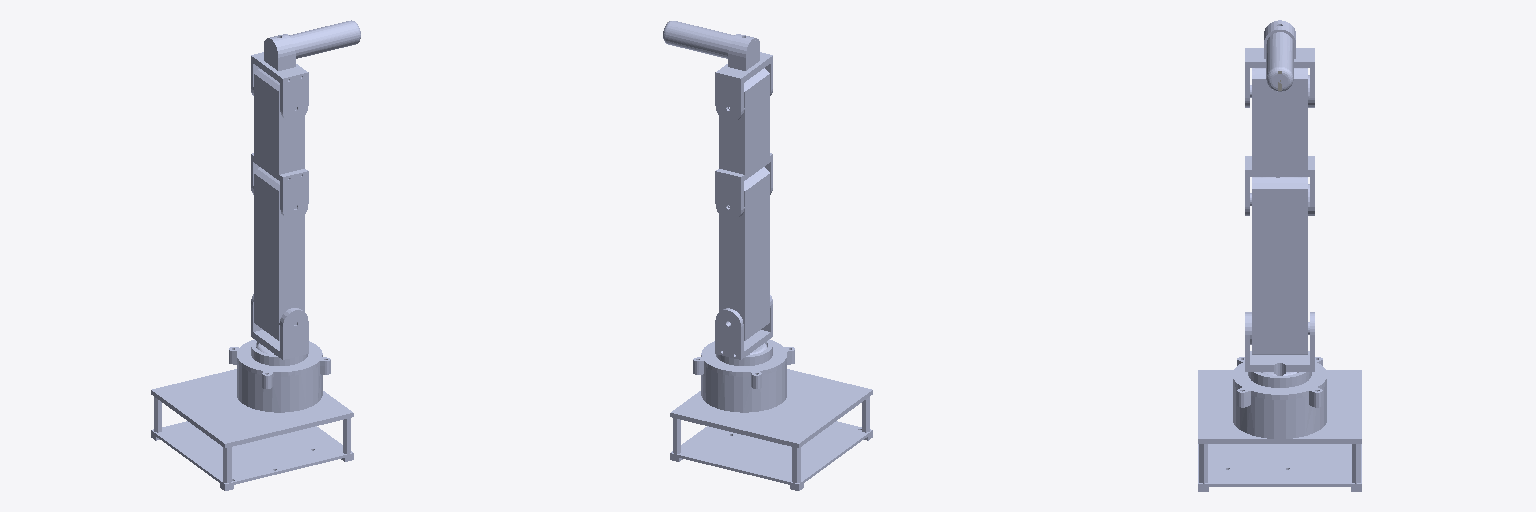
URDF robot description (tengri_robot_urdf):
<?xml version="1.0" encoding="utf-8"?>
<!-- This URDF was automatically created by SolidWorks to URDF Exporter! Originally created by [author] ([email redacted]) 
     Commit Version: 1.6.0-4-g7f85cfe  Build Version: 1.6.7995.38578
     For more information, please see http://wiki.ros.org/sw_urdf_exporter -->
<robot
  name="tengri_robot_urdf">

  <link name="world"/>
  <joint name="base_joint" type="fixed">
    <parent link="world"/>
    <child link="base_link"/>
    <origin rpy="0 0 0" xyz="0.0 0.0 0.0"/>
  </joint>

  <link
    name="base_link">
    <inertial>
      <origin
        xyz="0.0081614 5.1099E-05 0.035297"
        rpy="0 0 0" />
      <mass
        value="0.97974" />
      <inertia
        ixx="0.0014534"
        ixy="1.0663E-06"
        ixz="-2.1094E-05"
        iyy="0.0014771"
        iyz="-3.4449E-10"
        izz="0.0028624" />
    </inertial>
    <visual>
      <origin
        xyz="0 0 0"
        rpy="0 0 0" />
      <geometry>
        <mesh
          filename="package://tengri_robot_urdf/meshes/base_link.STL" />
      </geometry>
      <material
        name="">
        <color
          rgba="0.79216 0.81961 0.93333 1" />
      </material>
    </visual>
    <collision>
      <origin
        xyz="0 0 0"
        rpy="0 0 0" />
      <geometry>
        <mesh
          filename="package://tengri_robot_urdf/meshes/base_link.STL" />
      </geometry>
    </collision>
  </link>
  <link
    name="link1">
    <inertial>
      <origin
        xyz="0.00053204 4.082E-06 -0.0013621"
        rpy="0 0 0" />
      <mass
        value="0.56984" />
      <inertia
        ixx="0.00024122"
        ixy="1.0045E-06"
        ixz="1.8665E-06"
        iyy="0.00018334"
        iyz="-4.805E-05"
        izz="0.00021426" />
    </inertial>
    <visual>
      <origin
        xyz="0 0 0"
        rpy="0 0 0" />
      <geometry>
        <mesh
          filename="package://tengri_robot_urdf/meshes/link1.STL" />
      </geometry>
      <material
        name="">
        <color
          rgba="0.79216 0.81961 0.93333 1" />
      </material>
    </visual>
    <collision>
      <origin
        xyz="0 0 0"
        rpy="0 0 0" />
      <geometry>
        <mesh
          filename="package://tengri_robot_urdf/meshes/link1.STL" />
      </geometry>
    </collision>
  </link>
  <joint
    name="joint1"
    type="revolute">
    <origin
      xyz="0.031896 0 0.108"
      rpy="0 0 3.1416" />
    <parent
      link="base_link" />
    <child
      link="link1" />
    <axis
      xyz="0 0 -1" />
    <limit
      lower="-1.5708"
      upper="1.5708"
      effort="350"
      velocity="0.2618" />
  </joint>
  <link
    name="link2">
    <inertial>
      <origin
        xyz="0.065 -3.5627E-09 0.0003498"
        rpy="0 0 0" />
      <mass
        value="0.74616" />
      <inertia
        ixx="0.00023225"
        ixy="1.8584E-10"
        ixz="7.5381E-11"
        iyy="0.002327"
        iyz="-1.9043E-11"
        izz="0.0022933" />
    </inertial>
    <visual>
      <origin
        xyz="0 0 0"
        rpy="0 0 0" />
      <geometry>
        <mesh
          filename="package://tengri_robot_urdf/meshes/link2.STL" />
      </geometry>
      <material
        name="">
        <color
          rgba="0.79216 0.81961 0.93333 1" />
      </material>
    </visual>
    <collision>
      <origin
        xyz="0 0 0"
        rpy="0 0 0" />
      <geometry>
        <mesh
          filename="package://tengri_robot_urdf/meshes/link2.STL" />
      </geometry>
    </collision>
  </link>
  <joint
    name="joint2"
    type="revolute">
    <origin
      xyz="0 0 0.037"
      rpy="1.5708 -1.5708 0" />
    <parent
      link="link1" />
    <child
      link="link2" />
    <axis
      xyz="0 0 -1" />
    <limit
      lower="-1.5708"
      upper="1.5708"
      effort="350"
      velocity="0.2618" />
  </joint>
  <link
    name="link3">
    <inertial>
      <origin
        xyz="0.0657 -8.0744E-09 0.00017686"
        rpy="0 0 0" />
      <mass
        value="0.56731" />
      <inertia
        ixx="0.00017985"
        ixy="2.8825E-10"
        ixz="5.4947E-05"
        iyy="0.00087367"
        iyz="-3.1466E-11"
        izz="0.00081538" />
    </inertial>
    <visual>
      <origin
        xyz="0 0 0"
        rpy="0 0 0" />
      <geometry>
        <mesh
          filename="package://tengri_robot_urdf/meshes/link3.STL" />
      </geometry>
      <material
        name="">
        <color
          rgba="0.79216 0.81961 0.93333 1" />
      </material>
    </visual>
    <collision>
      <origin
        xyz="0 0 0"
        rpy="0 0 0" />
      <geometry>
        <mesh
          filename="package://tengri_robot_urdf/meshes/link3.STL" />
      </geometry>
    </collision>
  </link>
  <joint
    name="joint3"
    type="revolute">
    <origin
      xyz="0.13 0 0"
      rpy="0 0 0" />
    <parent
      link="link2" />
    <child
      link="link3" />
    <axis
      xyz="0 0 1" />
    <limit
      lower="-1.5708"
      upper="1.5708"
      effort="350"
      velocity="0.2618" />
  </joint>
  <link
    name="link4">
    <inertial>
      <origin
        xyz="0.026848 -5.0403E-10 -3.3866E-05"
        rpy="0 0 0" />
      <mass
        value="0.2507" />
      <inertia
        ixx="8.0063E-05"
        ixy="6.5944E-12"
        ixz="3.0854E-05"
        iyy="0.00012549"
        iyz="6.7447E-13"
        izz="7.8808E-05" />
    </inertial>
    <visual>
      <origin
        xyz="0 0 0"
        rpy="0 0 0" />
      <geometry>
        <mesh
          filename="package://tengri_robot_urdf/meshes/link4.STL" />
      </geometry>
      <material
        name="">
        <color
          rgba="0.79216 0.81961 0.93333 1" />
      </material>
    </visual>
    <collision>
      <origin
        xyz="0 0 0"
        rpy="0 0 0" />
      <geometry>
        <mesh
          filename="package://tengri_robot_urdf/meshes/link4.STL" />
      </geometry>
    </collision>
  </link>
  <joint
    name="joint4"
    type="revolute">
    <origin
      xyz="0.11 0 0"
      rpy="0 0 0" />
    <parent
      link="link3" />
    <child
      link="link4" />
    <axis
      xyz="0 0 1" />
    <limit
      lower="-1.5708"
      upper="1.5708"
      effort="350"
      velocity="0.2618" />
  </joint>
  <link
    name="link5">
    <inertial>
      <origin
        xyz="-1.9804E-18 0 -0.050385"
        rpy="3.1416 0 0" />
      <mass
        value="0.37989" />
      <inertia
        ixx="0.00032663"
        ixy="1.5055E-22"
        ixz="-1.7537E-20"
        iyy="0.00032663"
        iyz="9.4503E-21"
        izz="2.9517E-05" />
    </inertial>
    <visual>
      <origin
        xyz="0 0 0"
        rpy="3.1416 0 0" />
      <geometry>
        <mesh
          filename="package://tengri_robot_urdf/meshes/marker_link.STL" />
      </geometry>
      <material
        name="">
        <color
          rgba="0.79216 0.81961 0.93333 1" />
      </material>
    </visual>
    <collision>
      <origin
        xyz="0 0 0"
        rpy="3.1416 0 0" />
      <geometry>
        <mesh
          filename="package://tengri_robot_urdf/meshes/marker_link.STL" />
      </geometry>
    </collision>
  </link>
  <joint
    name="joint5"
    type="revolute">
    <origin
      xyz="0.052 0.09 0"
      rpy="1.5708 -1.5708 0" />
    <parent
      link="link4" />
    <child
      link="link5" />
    <axis
      xyz="0 0 1" />
    <limit
      lower="-1.5708"
      upper="1.5708"
      effort="100"
      velocity="0.2618" />
  </joint>

  <link name="endeff">
    <visual>
      <geometry>
         <box size="0.003 0.02 0.001"/>
      </geometry>
      <material name="blue"/>
      <origin rpy="0 0 0" xyz="0 0 0.0005"/>
    </visual>
  </link>

  <joint name="joint6" type="revolute">
    <origin rpy="0 0 0" xyz="0 0 0"/>
    <limit effort="1000.0" lower="-1.57" upper="1.57" velocity="0.5"/>
    <parent link="link5"/>
    <child link="endeff"/>
  </joint>

  <!-- <transmission name="link1_trans">
    <type>transmission_interface/SimpleTransmission</type>
    <joint name="joint1">
    
    <hardwareInterface>hardware_interface/PositionJointInterface</hardwareInterface></joint>
    <actuator name="link1_motor">
    
    <hardwareInterface>hardware_interface/PositionJointInterface</hardwareInterface>
      <mechanicalReduction>1</mechanicalReduction>
    </actuator>
  </transmission>

  <transmission name="link2_trans">
    <type>transmission_interface/SimpleTransmission</type>
    <joint name="joint2">
    
    <hardwareInterface>hardware_interface/PositionJointInterface</hardwareInterface></joint>
    <actuator name="link2_motor">
    
    <hardwareInterface>hardware_interface/PositionJointInterface</hardwareInterface>
      <mechanicalReduction>1</mechanicalReduction>
    </actuator>
  </transmission>

  <transmission name="link3_trans">
    <type>transmission_interface/SimpleTransmission</type>
    <joint name="joint3">
    
    <hardwareInterface>hardware_interface/PositionJointInterface</hardwareInterface></joint>
    <actuator name="link3_motor">
    
    <hardwareInterface>hardware_interface/PositionJointInterface</hardwareInterface>
      <mechanicalReduction>1</mechanicalReduction>
    </actuator>
  </transmission>

  <transmission name="link4_trans">
    <type>transmission_interface/SimpleTransmission</type>
    <joint name="joint4">
    
    <hardwareInterface>hardware_interface/PositionJointInterface</hardwareInterface></joint>
    <actuator name="link4_motor">
    
    <hardwareInterface>hardware_interface/PositionJointInterface</hardwareInterface>
      <mechanicalReduction>1</mechanicalReduction>
    </actuator>
  </transmission>

  <transmission name="link5_trans">
    <type>transmission_interface/SimpleTransmission</type>
    <joint name="joint5">
    
    <hardwareInterface>hardware_interface/PositionJointInterface</hardwareInterface></joint>
    <actuator name="link5_motor">
    
    <hardwareInterface>hardware_interface/PositionJointInterface</hardwareInterface>
      <mechanicalReduction>1</mechanicalReduction>
    </actuator>
  </transmission>

  <transmission name="endeff_trans">
    <type>transmission_interface/SimpleTransmission</type>
    <joint name="joint6">
    
    <hardwareInterface>hardware_interface/PositionJointInterface</hardwareInterface></joint>
    <actuator name="endeff_motor">
    
    <hardwareInterface>hardware_interface/PositionJointInterface</hardwareInterface>
      <mechanicalReduction>1</mechanicalReduction>
    </actuator>
  </transmission> -->

</robot>

--- Facts derived from the render (not from the file) ---
3 views of the same robot in one strip: view 1: azimuth 30°, elevation 25°; view 2: azimuth 150°, elevation 25°; view 3: azimuth 270°, elevation 25° (orthographic).
Robot: tengri_robot_urdf — 8 links, 7 joints (6 revolute, 1 fixed); root link world; default pose: every joint at zero.
Visible links, largest first — view 1: base_link, link2, link3, link4, link1, link5; view 2: base_link, link2, link3, link4, link1, link5; view 3: base_link, link2, link3, link1, link4, link5.
Boxes of the visible links, bbox=[...] form: base_link: bbox=[151, 340, 353, 490]; link2: bbox=[254, 167, 304, 340]; link3: bbox=[251, 69, 308, 220]; link4: bbox=[251, 34, 308, 122]; link1: bbox=[251, 294, 308, 365]; link5: bbox=[265, 20, 360, 64]; base_link: bbox=[670, 340, 872, 490]; link2: bbox=[719, 167, 769, 340]; link3: bbox=[715, 68, 772, 220]; link4: bbox=[715, 34, 772, 121]; link1: bbox=[715, 295, 772, 365]; link5: bbox=[663, 21, 758, 64]; base_link: bbox=[1198, 357, 1361, 491]; link2: bbox=[1252, 177, 1307, 354]; link3: bbox=[1245, 68, 1314, 215]; link1: bbox=[1245, 312, 1314, 387]; link4: bbox=[1245, 20, 1314, 107]; link5: bbox=[1266, 32, 1293, 91].
Bounding box of the posed robot: 0.1969 × 0.15 × 0.452 m (x, y, z).
6 mesh visuals loaded from 6 distinct referenced files (6 binary STL).